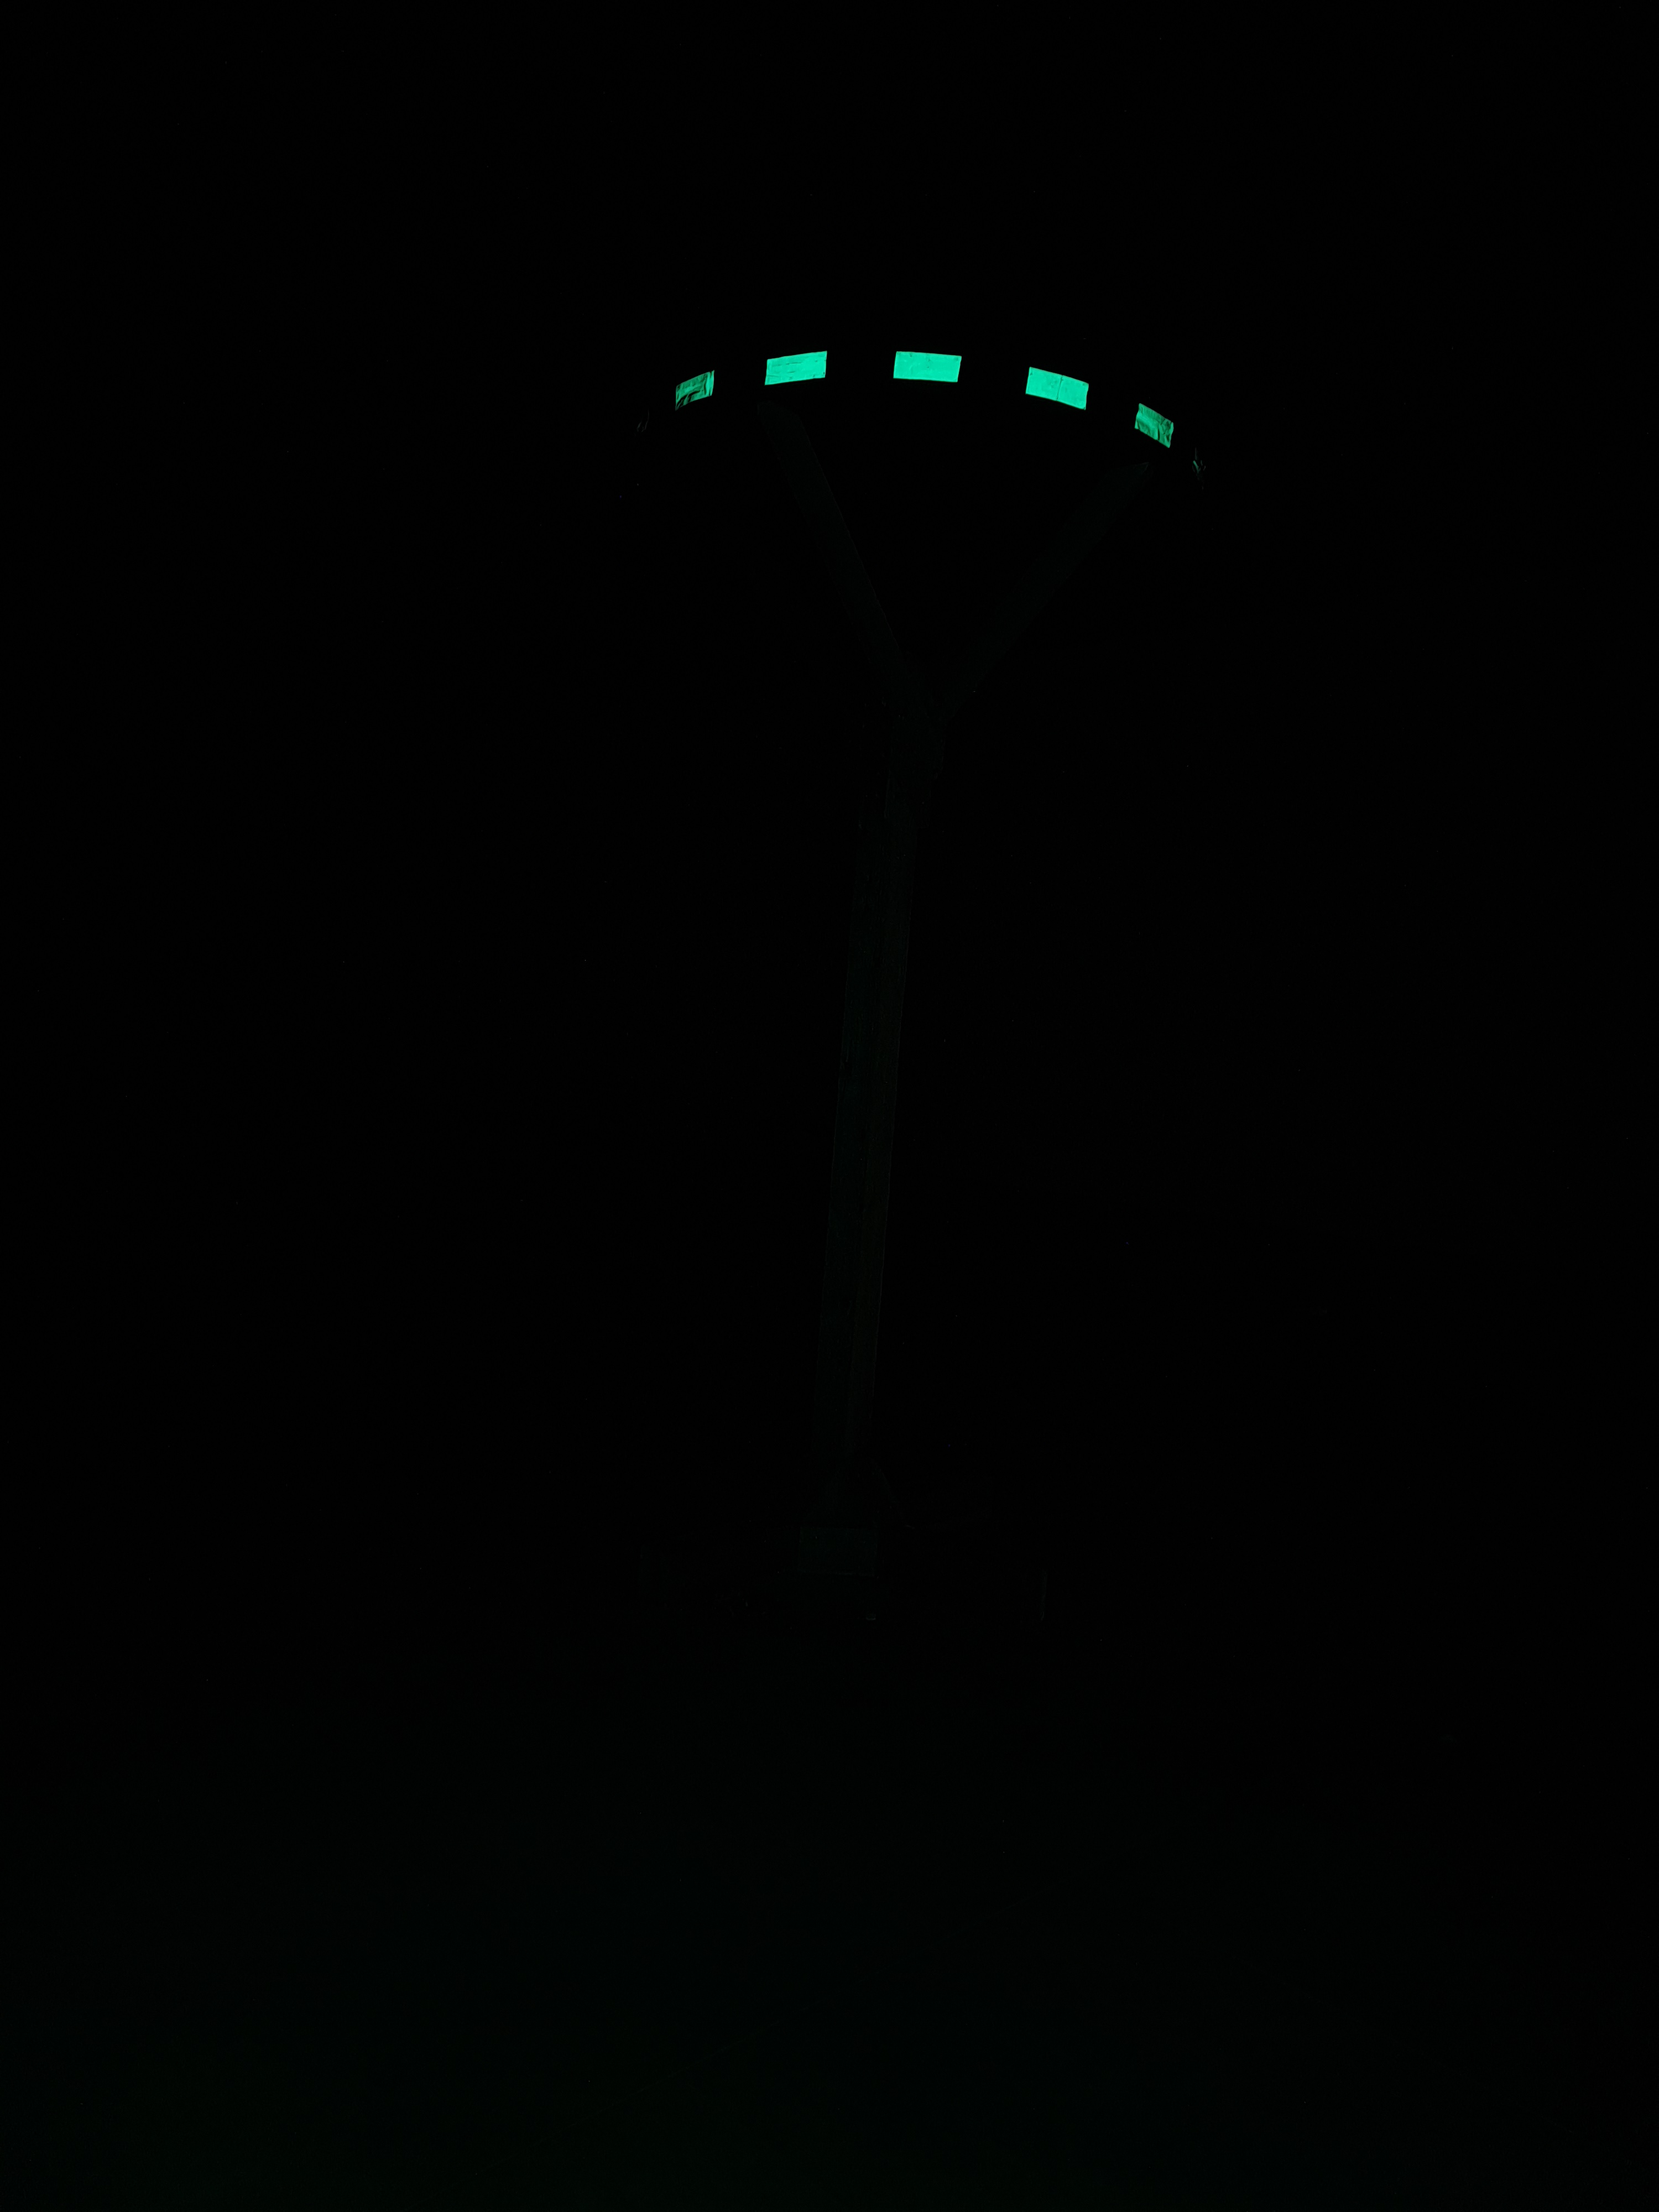hoop: (667, 345, 1173, 449)
